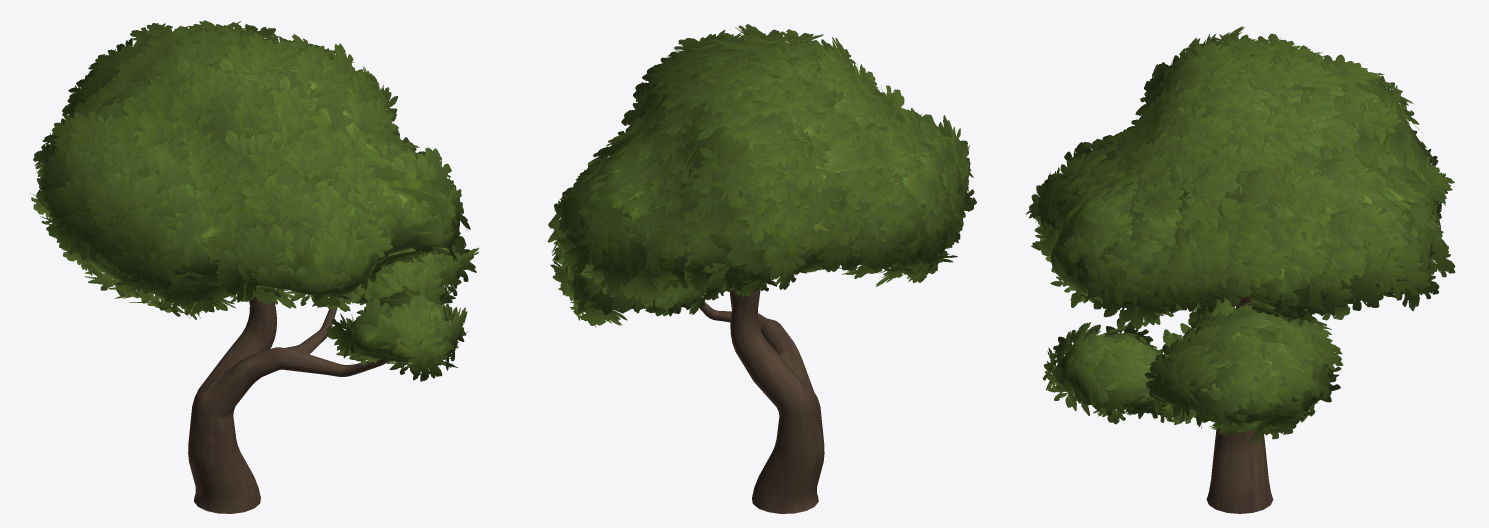
Rendered from PineTree_2.glb.
3 views of the same model, side by side, from view 1: azimuth 30°, elevation 25°; view 2: azimuth 150°, elevation 25°; view 3: azimuth 270°, elevation 25° (orthographic).
Parts seen in each view (by area): view 1: Tree_3_ConiferLarge_LOD0, Tree_3_ConiferLargeCanopyB_LOD0, Tree_3_ConiferLargeCanopyC_LOD0, Tree_3_ConiferLargeCanopyG_LOD0, Tree_3_ConiferLargeCanopyE_LOD0, Tree_3_ConiferLargeCanopyF_LOD0, Tree_3_ConiferLargeCanopyD_LOD0, Tree_3_ConiferLargeCanopyA_LOD0; view 2: Tree_3_ConiferLarge_LOD0, Tree_3_ConiferLargeCanopyA_LOD0, Tree_3_ConiferLargeCanopyB_LOD0, Tree_3_ConiferLargeCanopyG_LOD0, Tree_3_ConiferLargeCanopyF_LOD0, Tree_3_ConiferLargeCanopyD_LOD0; view 3: Tree_3_ConiferLargeCanopyF_LOD0, Tree_3_ConiferLarge_LOD0, Tree_3_ConiferLargeCanopyC_LOD0, Tree_3_ConiferLargeCanopyD_LOD0, Tree_3_ConiferLargeCanopyA_LOD0, Tree_3_ConiferLargeCanopyG_LOD0, Tree_3_ConiferLargeCanopyE_LOD0, Tree_3_ConiferLargeCanopyB_LOD0.
Boxes of the visible parts, x1,y1,x2,y2 form: Tree_3_ConiferLarge_LOD0: [46, 36, 455, 513]; Tree_3_ConiferLargeCanopyB_LOD0: [31, 56, 267, 319]; Tree_3_ConiferLargeCanopyC_LOD0: [174, 70, 470, 311]; Tree_3_ConiferLargeCanopyG_LOD0: [53, 20, 354, 160]; Tree_3_ConiferLargeCanopyE_LOD0: [326, 285, 468, 381]; Tree_3_ConiferLargeCanopyF_LOD0: [265, 32, 425, 155]; Tree_3_ConiferLargeCanopyD_LOD0: [355, 236, 478, 305]; Tree_3_ConiferLargeCanopyA_LOD0: [61, 22, 279, 122]; Tree_3_ConiferLarge_LOD0: [566, 40, 958, 513]; Tree_3_ConiferLargeCanopyA_LOD0: [585, 66, 809, 307]; Tree_3_ConiferLargeCanopyB_LOD0: [816, 52, 976, 286]; Tree_3_ConiferLargeCanopyG_LOD0: [672, 29, 891, 275]; Tree_3_ConiferLargeCanopyF_LOD0: [547, 24, 768, 297]; Tree_3_ConiferLargeCanopyD_LOD0: [550, 244, 726, 327]; Tree_3_ConiferLargeCanopyF_LOD0: [1146, 82, 1455, 326]; Tree_3_ConiferLarge_LOD0: [1039, 44, 1439, 513]; Tree_3_ConiferLargeCanopyC_LOD0: [1025, 63, 1221, 329]; Tree_3_ConiferLargeCanopyD_LOD0: [1128, 298, 1343, 445]; Tree_3_ConiferLargeCanopyA_LOD0: [1263, 69, 1454, 267]; Tree_3_ConiferLargeCanopyG_LOD0: [1142, 26, 1389, 150]; Tree_3_ConiferLargeCanopyE_LOD0: [1042, 318, 1162, 424]; Tree_3_ConiferLargeCanopyB_LOD0: [1125, 32, 1280, 131].
Size of the model in its own units: 9.98 by 10.21 by 9.15.
Materials: 3 (3 with a texture image).
